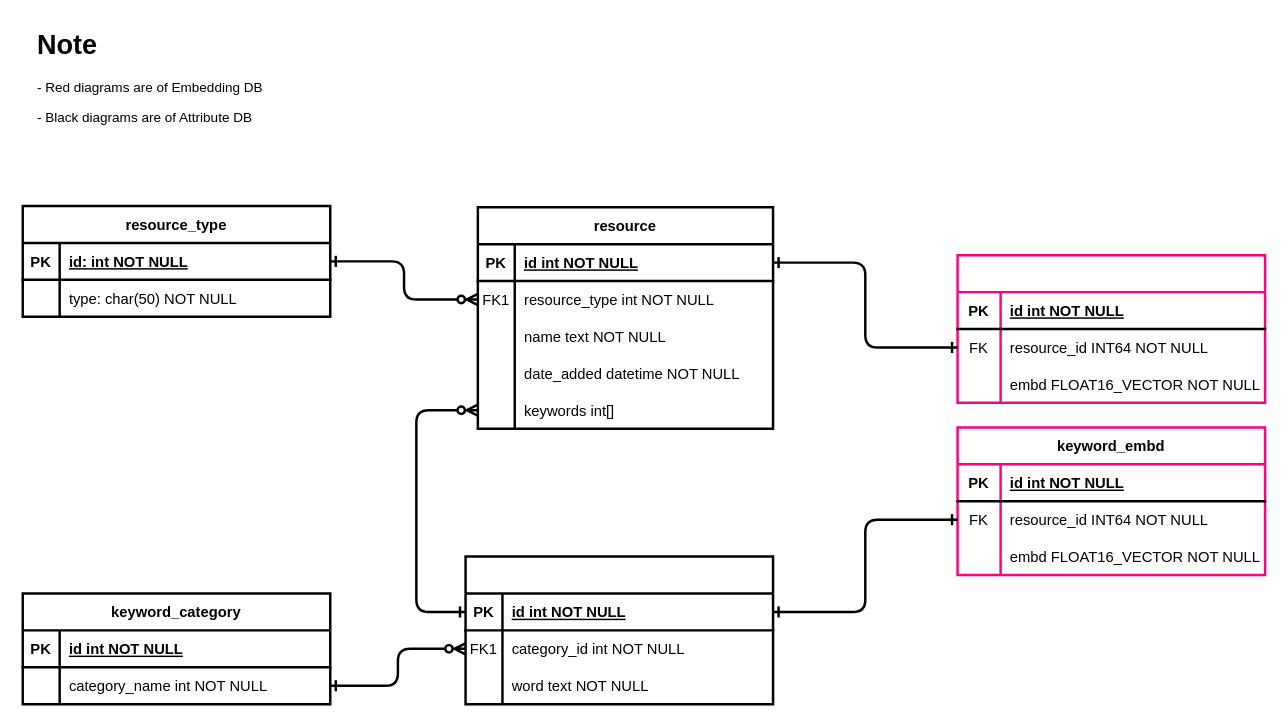
Some shapes in this 1287 by 726 pixel diagram are drawn without their labels. The shapes that lost their labels are listed below. From the top down, each one's box as (x1, y1, x2, y2) in pixels, then its label:
(956, 253, 1266, 403): resource_embd
(464, 555, 774, 705): keyword
